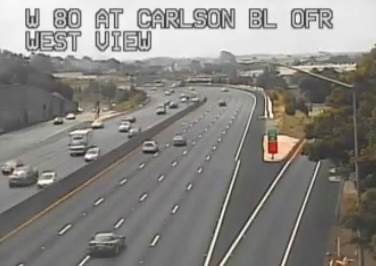car: (89, 232, 124, 256), (141, 140, 158, 153), (172, 136, 186, 146)
